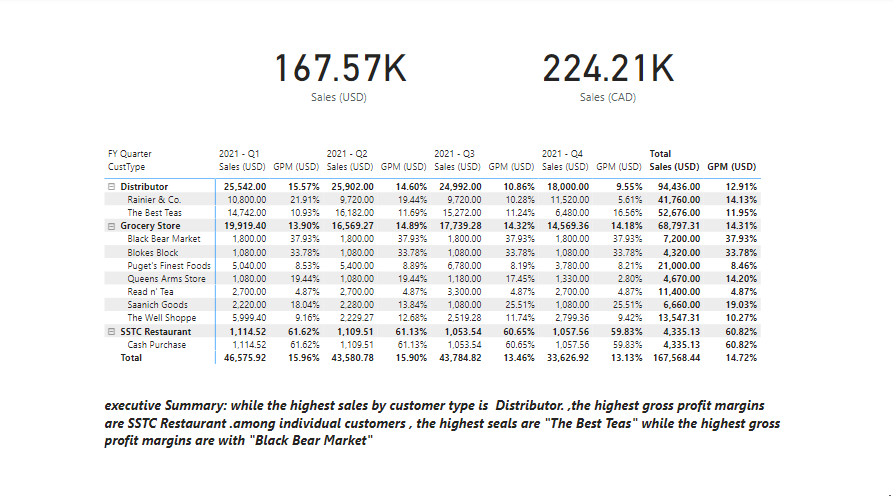

Layout of this report page (visuals, bound fields, positions):
{"tool":"powerbi","page":{"name":"Sales and GPM","canvas":[1280,720],"ordinal":0},"visuals":[{"type":"card","fields":{"Values":["Sales.Sales (USD)"]},"box":[348.5,0,279.4,210.2],"z":0},{"type":"card","fields":{"Values":["Sales.Sales (CAD)"]},"box":[725.8,0,299.5,210.2],"z":1000},{"type":"pivotTable","fields":{"Rows":["Customer List.CustType","Customer List.Customer"],"Columns":["Date.FY Quarter"],"Values":["Sales.Sales (USD)","Sales.GPM (USD)"]},"box":[145.4,210.2,986.4,355.7],"z":2000},{"type":"textbox","box":[145,570,986,150],"z":3000}]}

Visuals, with their boxes in screenshot pixels (x1, y1, x2, y2), scaled from the page's 1280x720 canvas onto the 893x497 screenshot:
card - Sales.Sales (USD): 243,0,438,145
card - Sales.Sales (CAD): 506,0,715,145
pivotTable - Customer List.CustType x Customer List.Customer: 101,145,790,391
textbox: 101,393,789,496
